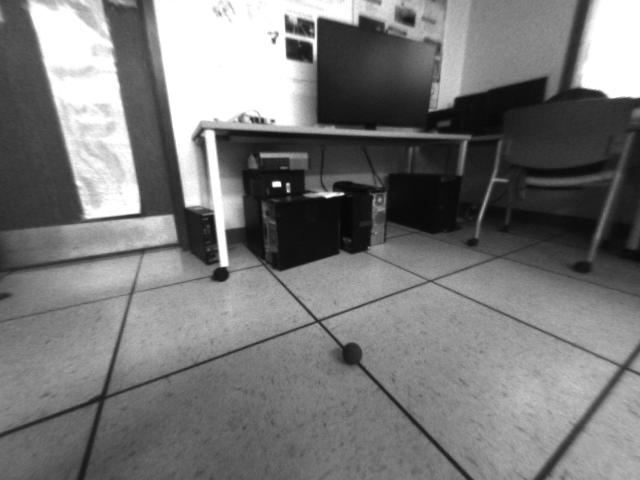dogtoy: (334, 334, 369, 371)
